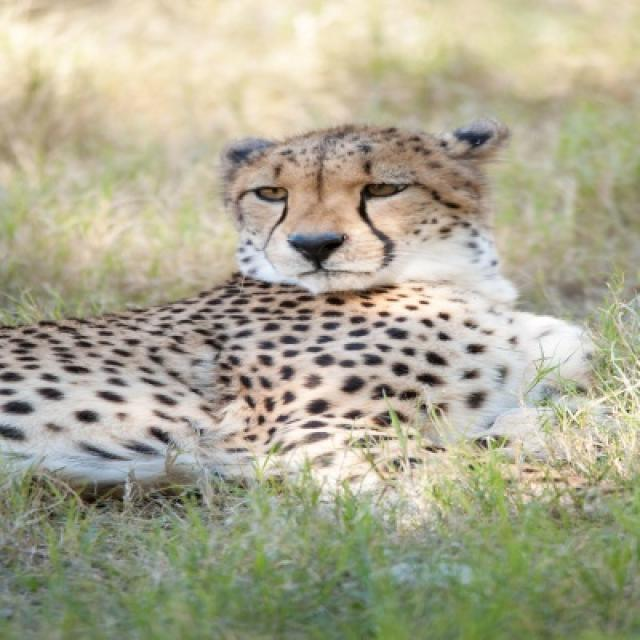Cheetah: (0, 116, 625, 531)
